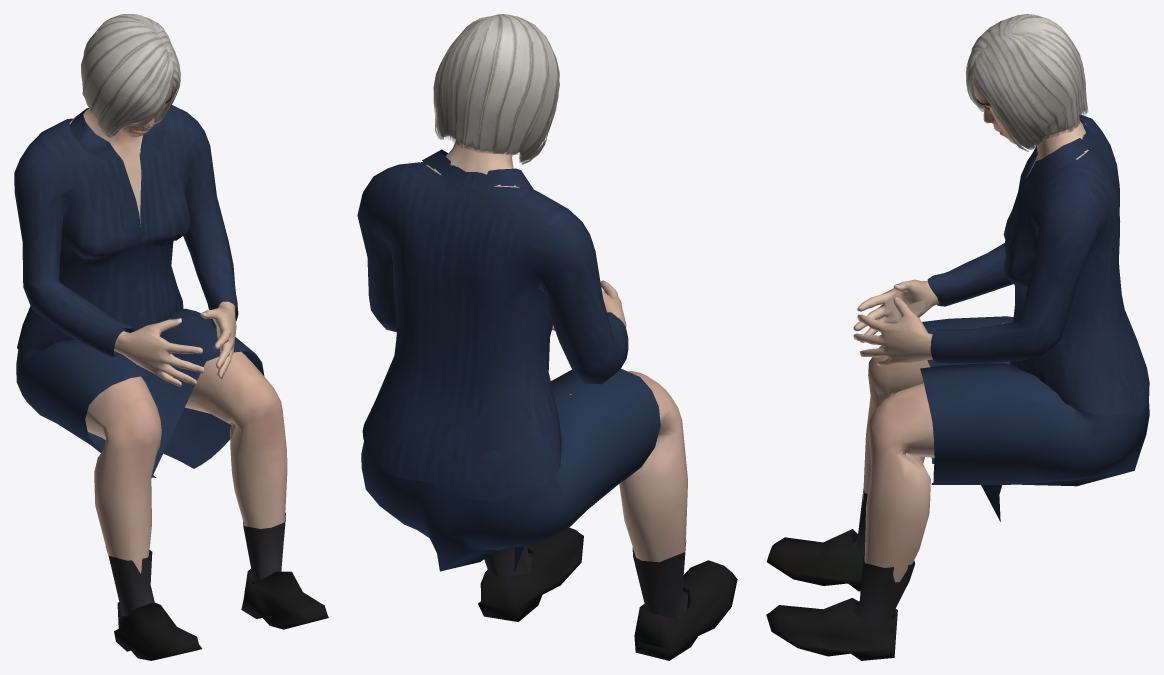
File: mq-pew_woman.glb
3 views of the same model, side by side, from view 1: azimuth 30°, elevation 25°; view 2: azimuth 150°, elevation 25°; view 3: azimuth 270°, elevation 25° (orthographic). The views are drawn at different scales.
Visible parts, largest first — view 1: MQ_pew_woman; view 2: MQ_pew_woman; view 3: MQ_pew_woman.
Boxes of the visible parts, x1,y1,x2,y2 form: MQ_pew_woman: [14, 14, 328, 660]; MQ_pew_woman: [357, 14, 737, 660]; MQ_pew_woman: [766, 14, 1149, 660].
Size of the model in its own units: 0.4295 by 1.15 by 0.6651.
1 material, 1 textured.
